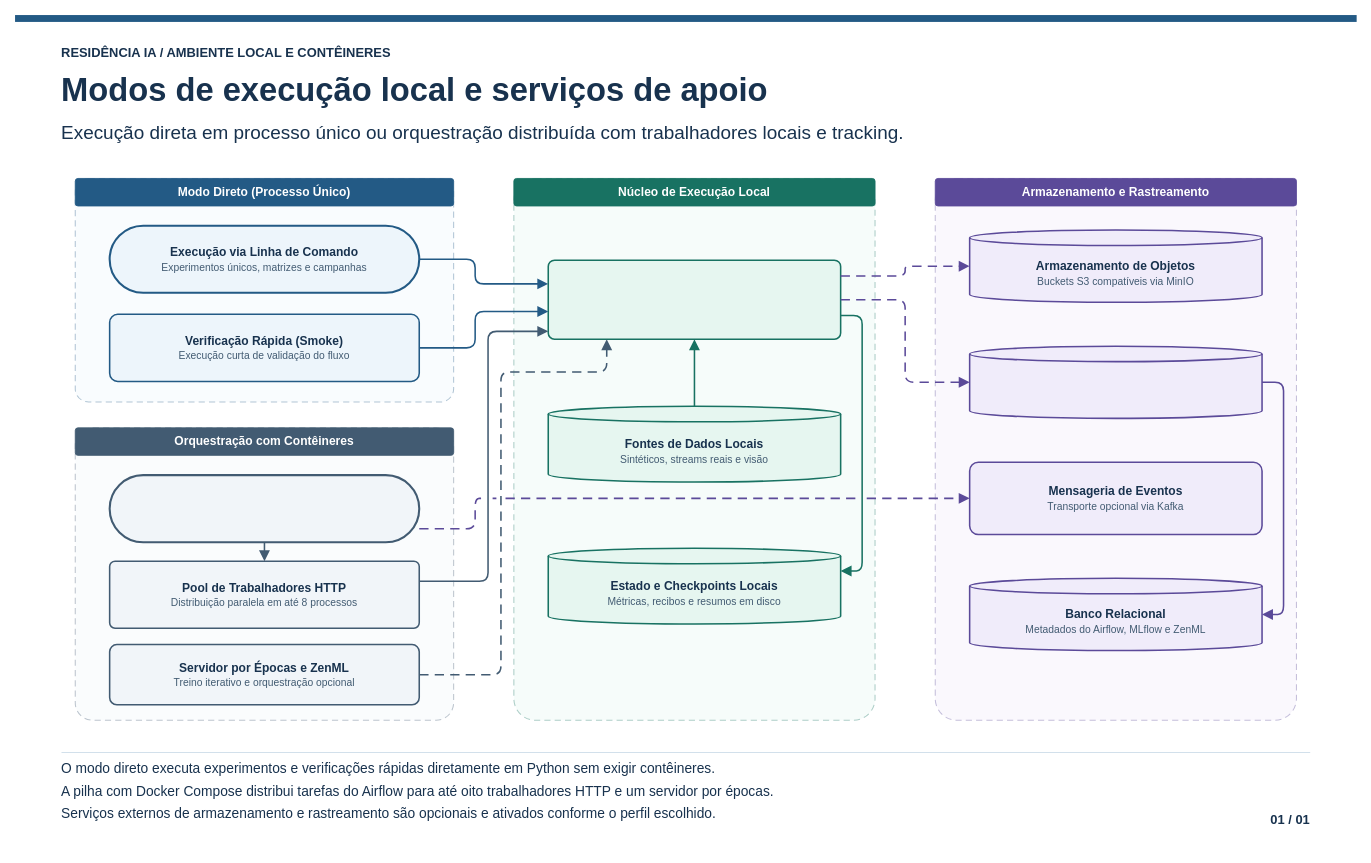
Image size: 1371x863. Some labels were removed from this diagram. Each missing label, with the box of its shape:
Avaliadores Python Evento, blocos, tipado e épocas: (547, 259, 841, 340)
Orquestrador Airflow Disparo de matrizes e suítes finitas: (108, 474, 420, 543)
Servidor MLflow Registro local de métricas e parâmetros: (968, 345, 1262, 419)
